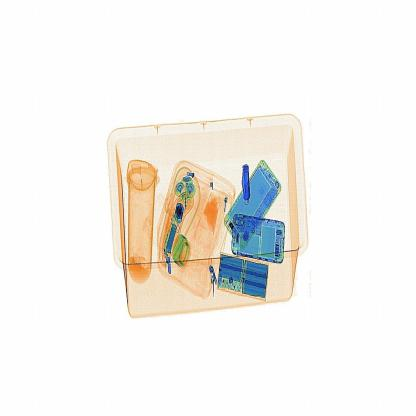knife: (236, 156, 262, 209)
